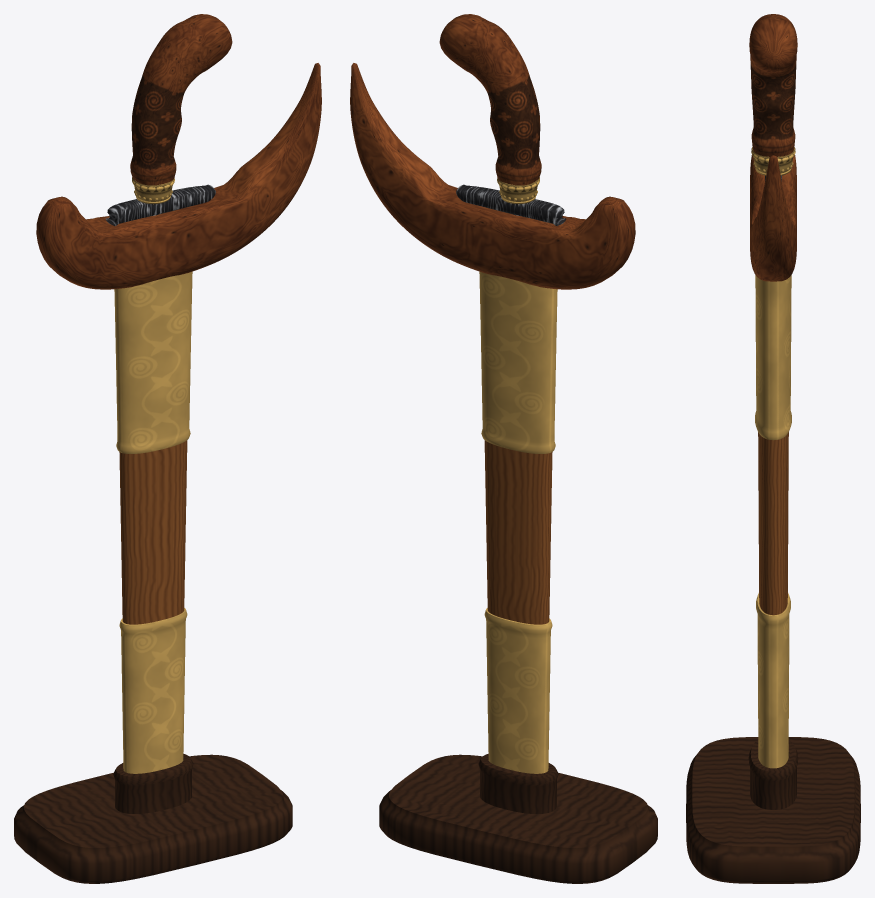
The model's file is keris_sumatra.glb.
The picture shows the model from 3 angles, left to right: view 1: azimuth 30°, elevation 25°; view 2: azimuth 150°, elevation 25°; view 3: azimuth 270°, elevation 25°; orthographic projection. The views are drawn at different scales.
Visible parts, largest first — view 1: Dudukan, Warangka_Sampir, Pendok_Atas, Gandar, Pendok_Bawah, Hulu, Ganja, Mendak; view 2: Dudukan, Warangka_Sampir, Pendok_Atas, Gandar, Pendok_Bawah, Hulu, Ganja, Mendak; view 3: Dudukan, Hulu, Pendok_Atas, Gandar, Warangka_Sampir, Pendok_Bawah, Mendak.
Boxes of the visible parts, left/top/right/bottom form: Dudukan: left=14, top=753, right=292, bottom=883; Warangka_Sampir: left=36, top=63, right=321, bottom=289; Pendok_Atas: left=114, top=271, right=192, bottom=453; Gandar: left=119, top=440, right=187, bottom=624; Pendok_Bawah: left=119, top=608, right=187, bottom=773; Hulu: left=130, top=14, right=232, bottom=185; Ganja: left=105, top=184, right=215, bottom=226; Mendak: left=132, top=177, right=174, bottom=204; Dudukan: left=379, top=753, right=657, bottom=883; Warangka_Sampir: left=350, top=63, right=635, bottom=289; Pendok_Atas: left=479, top=271, right=557, bottom=453; Gandar: left=484, top=440, right=552, bottom=624; Pendok_Bawah: left=484, top=608, right=552, bottom=773; Hulu: left=439, top=14, right=541, bottom=185; Ganja: left=456, top=184, right=566, bottom=225; Mendak: left=497, top=177, right=539, bottom=204; Dudukan: left=686, top=737, right=860, bottom=883; Hulu: left=749, top=14, right=797, bottom=156; Pendok_Atas: left=755, top=275, right=791, bottom=440; Gandar: left=758, top=432, right=788, bottom=615; Warangka_Sampir: left=750, top=155, right=796, bottom=281; Pendok_Bawah: left=756, top=593, right=790, bottom=768; Mendak: left=751, top=147, right=795, bottom=175.
Bounding box in the file's own units: 0.1933 × 0.5247 × 0.1.
Materials: 8 (7 with a texture image).
